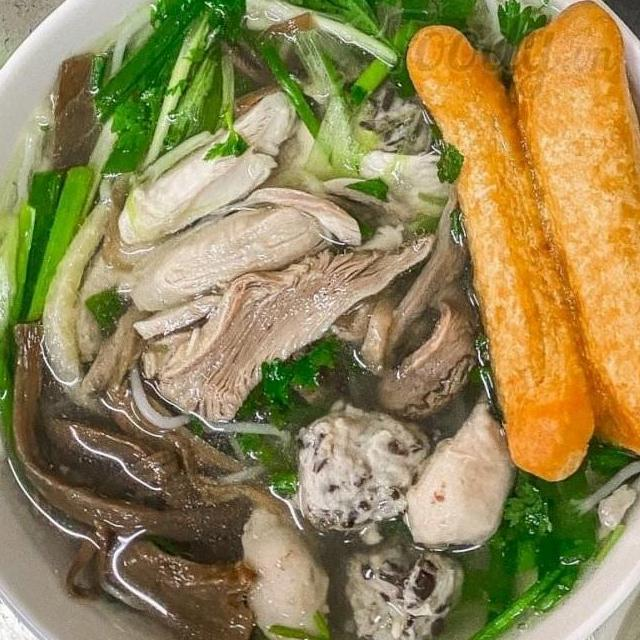thit ga: (67, 81, 302, 373), (133, 219, 444, 431), (120, 177, 364, 326), (348, 200, 487, 422)
vien moc: (275, 397, 444, 543), (346, 538, 469, 640)
